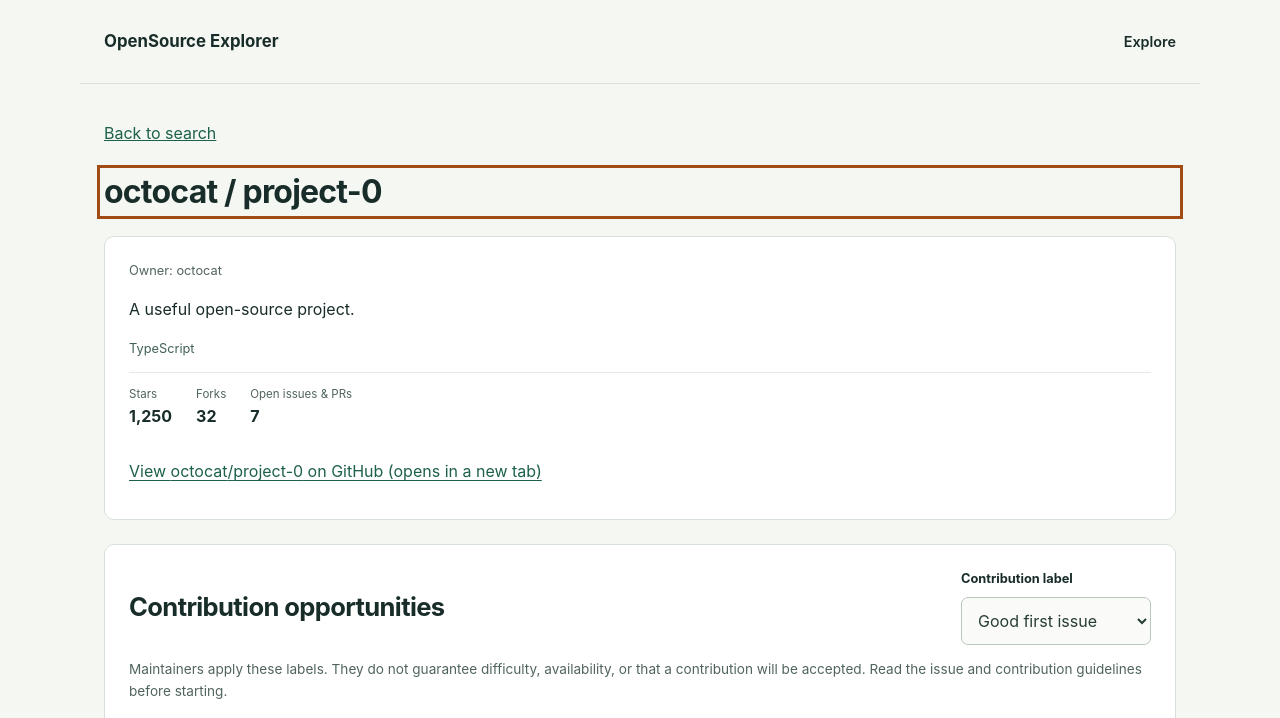
detail routing and page lifecycle › switches only the issue filter, exposes constructive empty state, and never refetches details for a label change
Select "Help wanted" in the dropdown labelled "Contribution label" at point(1056, 621), box [961,597,1151,645]
(page scrolled)
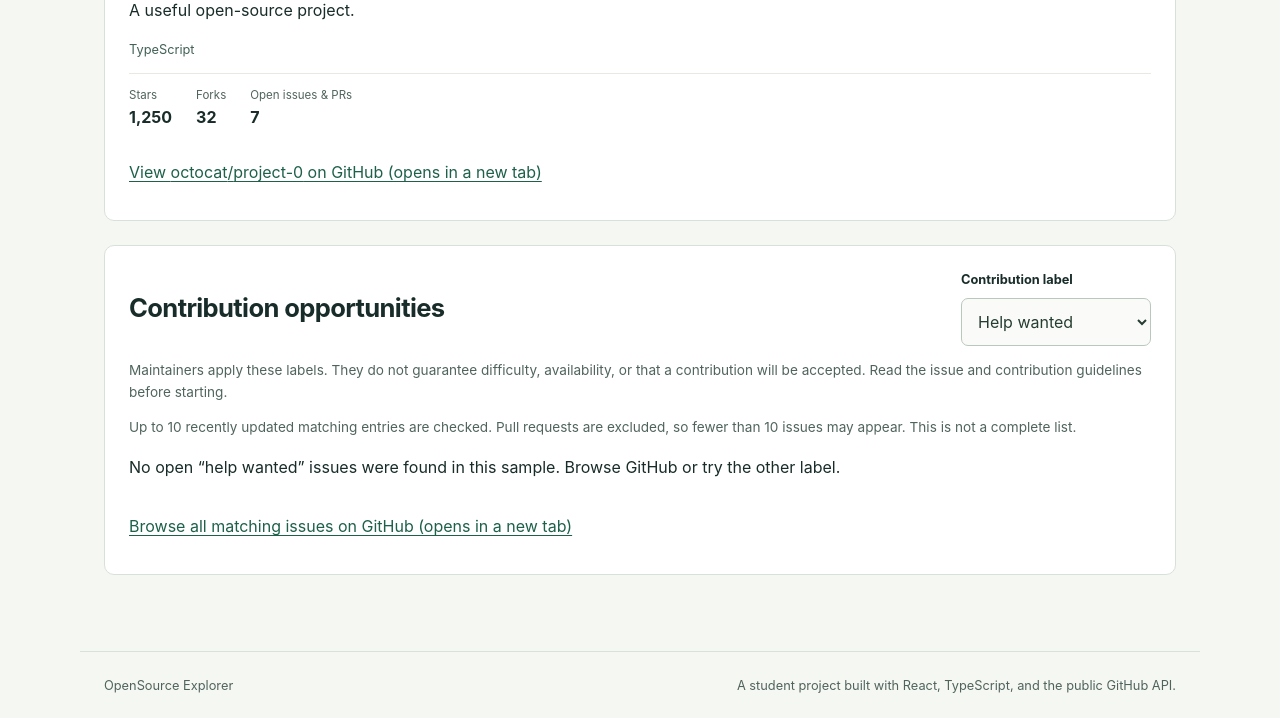
Expected: the text "No open “help wanted”" is shown, [129,457,840,477]
